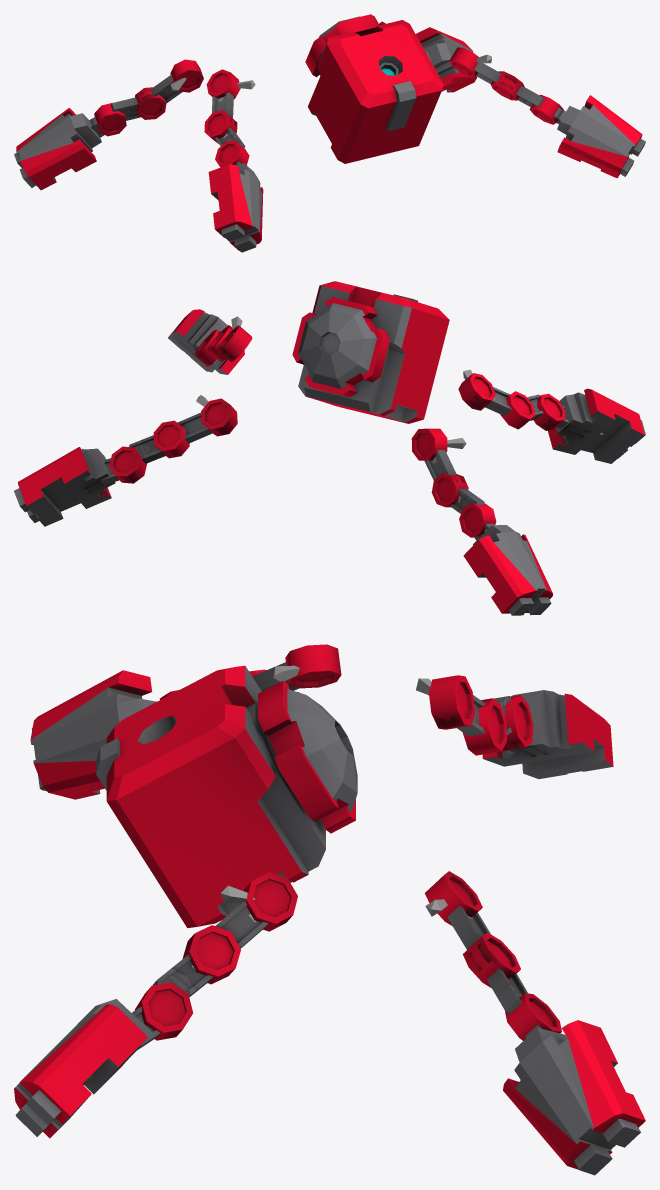
The model's file is Monster1_Die3.obj.
The picture shows the model from 3 angles, top to bottom: view 1: azimuth 30°, elevation 25°; view 2: azimuth 150°, elevation 25°; view 3: azimuth 270°, elevation 25°; orthographic projection. The views are drawn at different scales.
Parts seen in each view (by area): view 1: Box006, Object017, Object025, Object021, Object013, Object026, Object027, Object022, Object018, Object019, Object023, Object028 (+2 smaller); view 2: Box006, Object025, Object013, Object021, Object017, Object014, Object015, Object026, Object022, Object027, Object016, Object023 (+3 smaller); view 3: Box006, Object013, Object017, Object021, Object025, Object019, Object018, Object015, Object026, Object014, Object020, Object022 (+3 smaller).
Part boxes in pixels (box(x1,y1,x2,y2)): Box006: box(305, 14, 443, 163); Object017: box(557, 95, 645, 178); Object025: box(14, 108, 101, 190); Object021: box(208, 163, 263, 252); Object013: box(416, 27, 477, 92); Object026: box(150, 59, 203, 103); Object027: box(110, 87, 166, 120); Object022: box(206, 69, 240, 117); Object018: box(449, 47, 501, 83); Object019: box(490, 71, 544, 107); Object023: box(204, 110, 245, 148); Object028: box(88, 102, 126, 137); Box006: box(292, 281, 449, 423); Object025: box(463, 525, 552, 615); Object013: box(14, 447, 115, 526); Object021: box(548, 388, 645, 463); Object017: box(168, 309, 244, 374); Object014: box(177, 398, 237, 443); Object015: box(129, 420, 189, 463); Object026: box(411, 428, 456, 480); Object022: box(458, 373, 511, 415); Object027: box(431, 473, 484, 513); Object016: box(100, 446, 146, 484); Object023: box(500, 391, 543, 429); Box006: box(96, 665, 357, 928); Object013: box(503, 1020, 645, 1175); Object017: box(14, 999, 152, 1138); Object021: box(30, 670, 156, 799); Object025: box(482, 690, 613, 778); Object019: box(153, 925, 240, 996); Object018: box(215, 872, 297, 948); Object015: box(463, 932, 528, 1014); Object026: box(429, 675, 485, 736); Object014: box(425, 871, 490, 949); Object020: box(132, 982, 192, 1050); Object022: box(253, 644, 341, 691).
Size of the model in its own units: 307 by 112 by 199.
